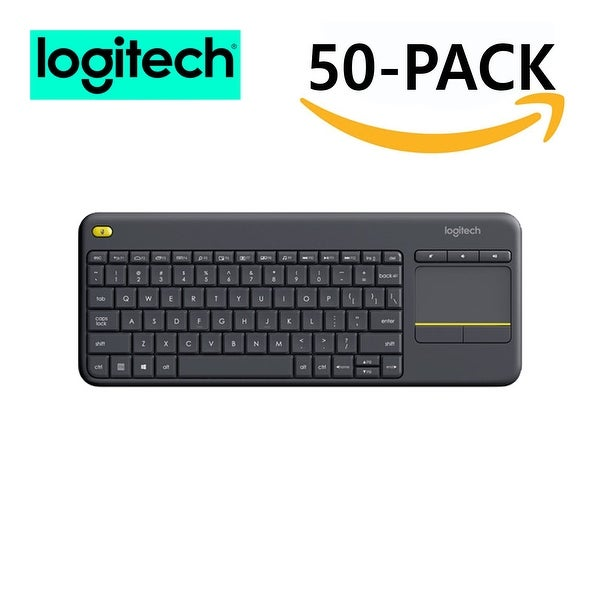logitech-keyboard-k400: (78, 210, 525, 391)
